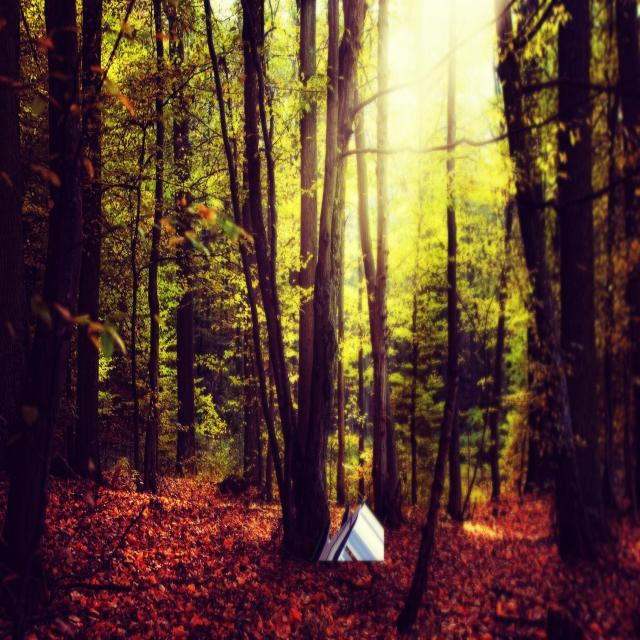airplane: (314, 500, 385, 563)
